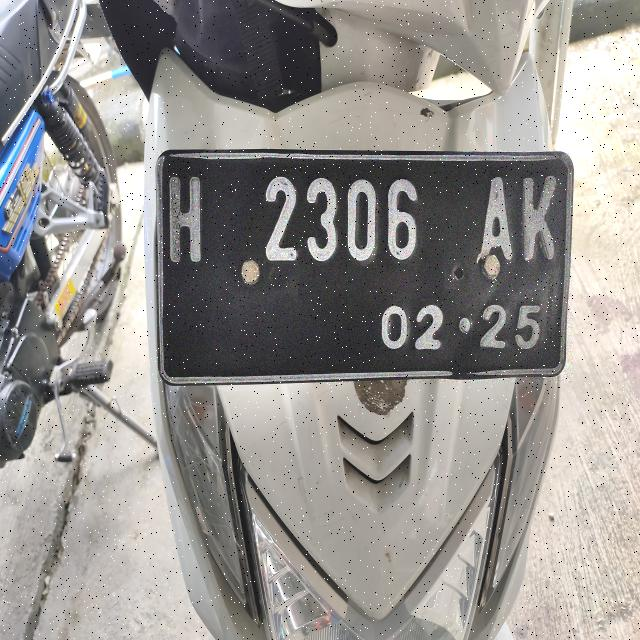plate: (158, 151, 572, 382)
